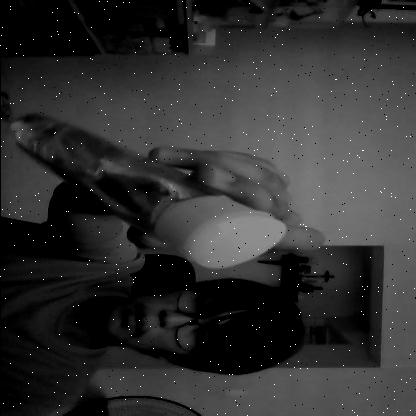Plastic Bottle: (5, 106, 286, 268)
